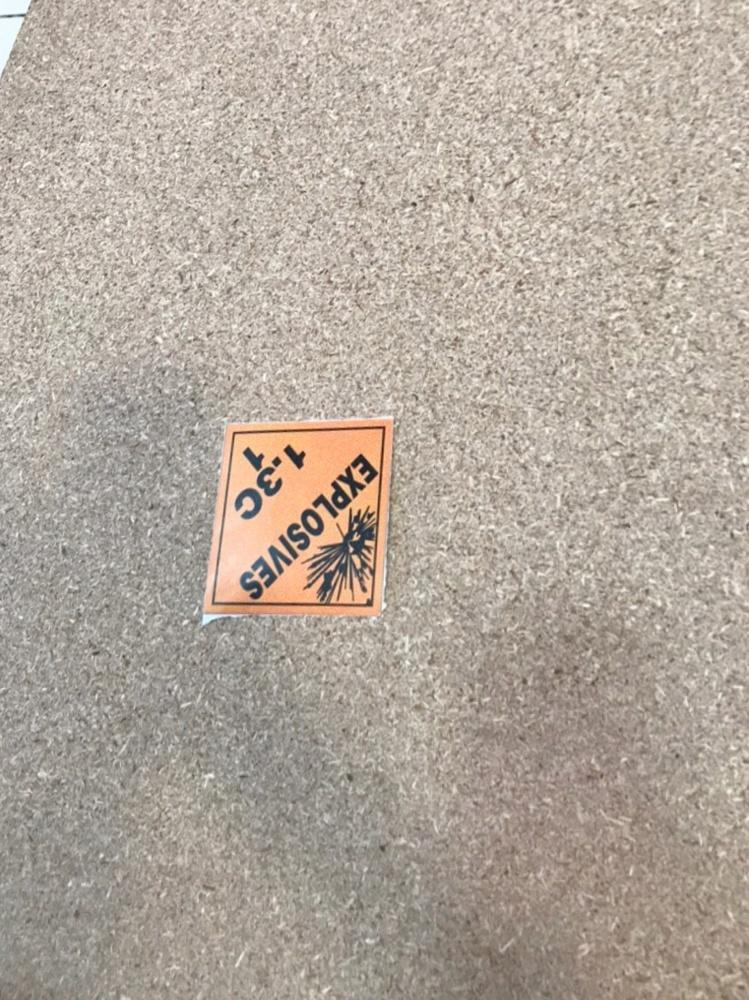explosive: (204, 414, 396, 616)
